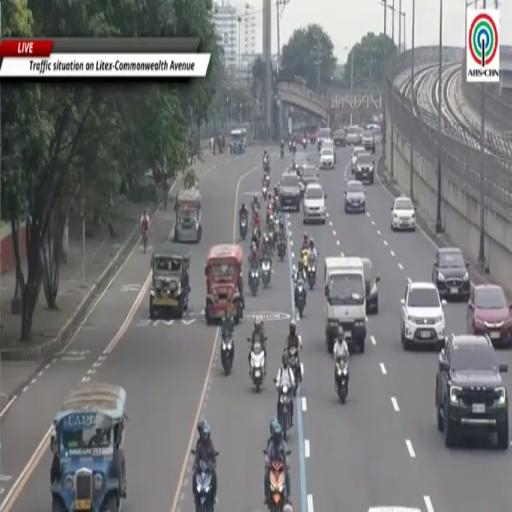car: (436, 335, 509, 450), (401, 281, 446, 349), (467, 284, 511, 346), (432, 248, 471, 300), (361, 258, 380, 314), (303, 184, 326, 223), (391, 196, 416, 231), (279, 173, 301, 212), (345, 181, 366, 213), (354, 153, 374, 184), (301, 166, 319, 196), (351, 147, 365, 173), (322, 139, 336, 164), (362, 130, 376, 153), (346, 125, 361, 146), (317, 127, 330, 151), (320, 148, 334, 169), (367, 124, 381, 143), (368, 506, 421, 511), (294, 153, 309, 170), (334, 128, 346, 147)
jeepney: (50, 383, 126, 511), (150, 244, 190, 318), (205, 245, 242, 325), (174, 188, 202, 243), (230, 130, 245, 154)
motorcycle: (267, 459, 290, 511), (195, 460, 214, 511), (277, 383, 293, 440), (250, 342, 264, 392), (288, 347, 301, 396), (335, 358, 348, 404), (221, 335, 233, 375), (295, 281, 305, 318), (262, 258, 272, 287), (249, 267, 259, 296), (239, 215, 248, 240), (308, 264, 316, 290), (277, 238, 285, 261), (266, 204, 273, 226), (301, 249, 308, 269), (143, 230, 148, 253), (264, 156, 270, 172), (262, 185, 267, 200), (292, 143, 296, 155), (280, 147, 284, 158), (303, 138, 306, 150), (289, 142, 292, 152)
truck: (324, 256, 366, 353)
